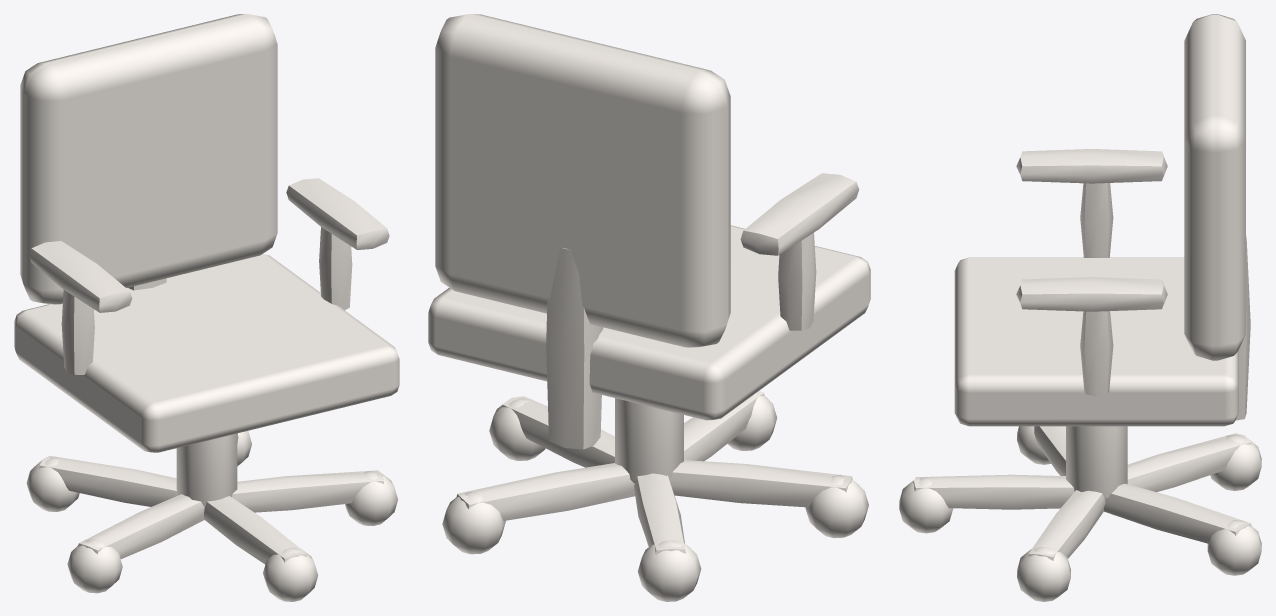
The model's file is gaming-chair.glb.
The picture shows the model from 3 angles, left to right: view 1: azimuth 30°, elevation 25°; view 2: azimuth 150°, elevation 25°; view 3: azimuth 270°, elevation 25°; orthographic projection. The views are drawn at different scales.
Visible parts, largest first — view 1: part (×14), mesh-back; view 2: part (×15), mesh-back; view 3: part (×17), mesh-back.
Part boxes in pixels (x1=…): part (×14): x1=14, y1=178, x2=399, y2=601; mesh-back: x1=20, y1=14, x2=277, y2=304; part (×15): x1=428, y1=173, x2=870, y2=601; mesh-back: x1=435, y1=14, x2=730, y2=347; part (×17): x1=899, y1=149, x2=1261, y2=601; mesh-back: x1=1184, y1=14, x2=1245, y2=360.
Size of the model in its own units: 1.37 by 1.84 by 1.3.
Materials: 1 (1 with a texture image).
